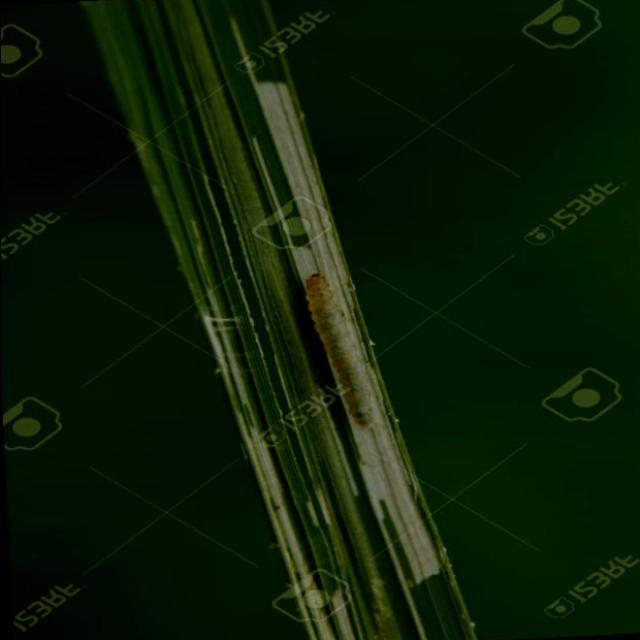leaf folder: (305, 274, 370, 427)
